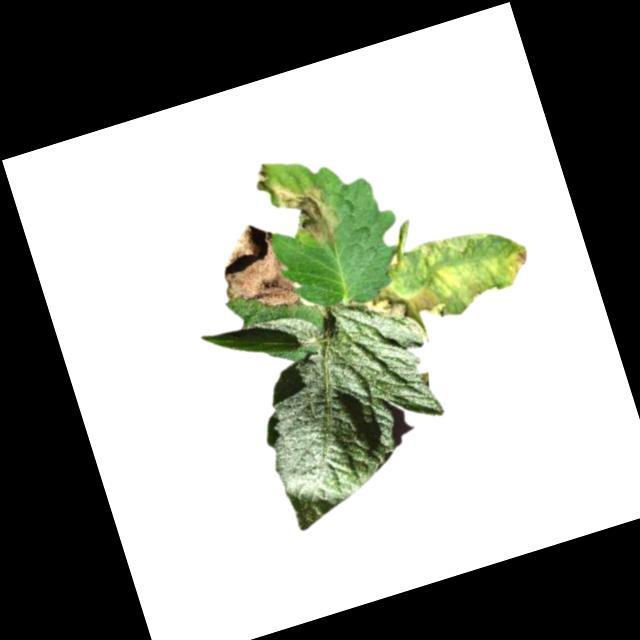Late_blight: (248, 144, 351, 261), (208, 215, 305, 327), (364, 271, 446, 337), (500, 243, 537, 286)
healthy: (233, 283, 465, 534)
